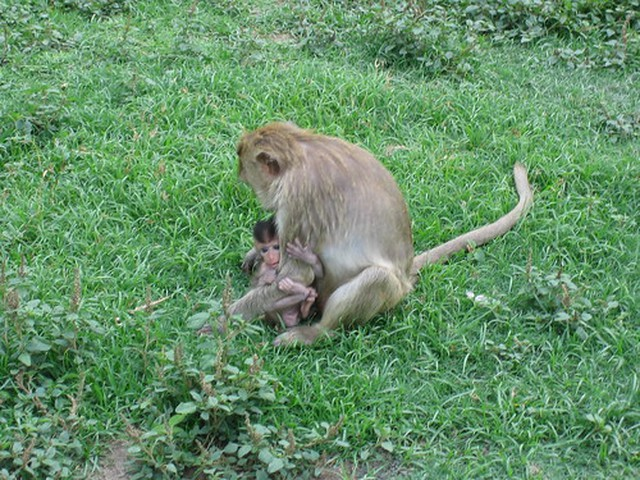Monkey: (225, 119, 469, 343)
